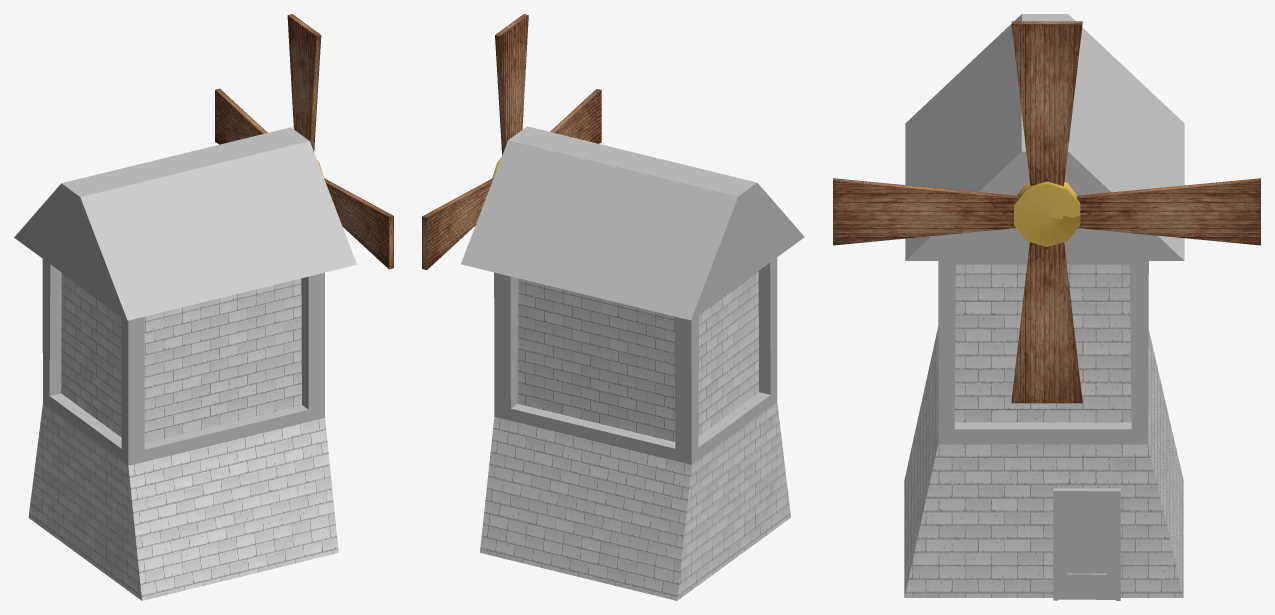
Rendered from MolinoProyecto.fbx.
The picture shows the model from 3 angles, left to right: view 1: azimuth 30°, elevation 25°; view 2: azimuth 150°, elevation 25°; view 3: azimuth 270°, elevation 25°; orthographic projection. The views are drawn at different scales.
Visible parts, largest first — view 1: Box064, Box079, Box067, Box065, Box080, Box071, Box082, Box068, Box070, Box081; view 2: Box064, Box079, Box068, Box066, Box080, Box072, Box081, Box067, Box070, Box082; view 3: Box064, Box079, Box082, Box081, Box080, Box083, PivotDoor001, Box069, Cylinder011, Box066, Box065.
Boxes of the visible parts, x1,y1,x2,y2 form: Box064: (28,273,338,600); Box079: (14,127,356,320); Box067: (121,316,144,465); Box065: (301,272,324,421); Box080: (287,14,321,151); Box071: (144,405,308,461); Box082: (324,178,393,269); Box068: (42,259,61,407); Box070: (49,393,121,460); Box081: (215,88,267,144); Box064: (480,271,790,600); Box079: (461,126,804,320); Box068: (675,315,698,464); Box066: (494,272,518,420); Box080: (495,14,528,155); Box072: (511,404,675,460); Box081: (422,178,493,269); Box067: (758,257,777,406); Box070: (698,392,770,459); Box082: (550,89,601,143); Box064: (904,263,1183,597); Box079: (905,14,1184,260); Box082: (833,178,1017,245); Box081: (1076,178,1260,245); Box080: (1011,21,1082,186); Box083: (1011,242,1082,403); PivotDoor001: (1053,488,1120,600); Box069: (954,422,1131,443); Cylinder011: (1014,181,1080,246); Box066: (1129,261,1148,443); Box065: (938,261,955,443).
Size of the model in its own units: 147 by 280 by 184.
